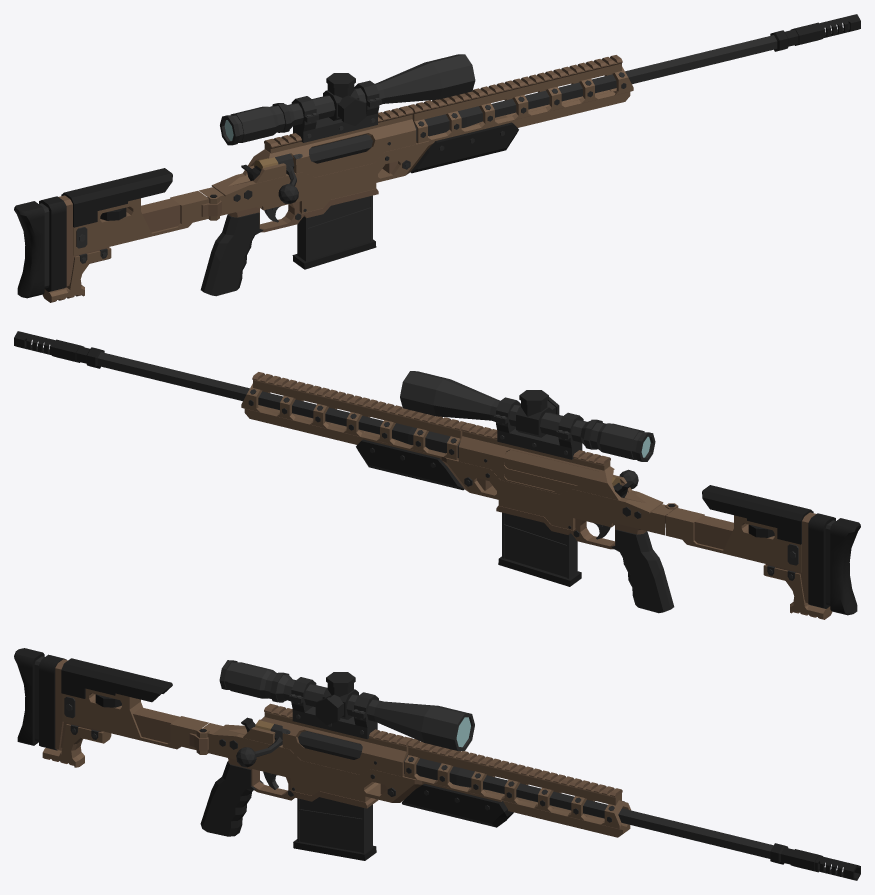
Rendered from ballista.glb.
3 renders of one model, top to bottom at view 1: azimuth 30°, elevation 25°; view 2: azimuth 150°, elevation 25°; view 3: azimuth 330°, elevation 25°, orthographic.
Parts seen in each view (by area): view 1: body_mesh, mag_mesh, boltrotate_mesh; view 2: body_mesh, mag_mesh; view 3: body_mesh, mag_mesh, boltrotate_mesh.
Part boxes in pixels (x1=…): body_mesh: x1=14, y1=14, x2=860, y2=302; mag_mesh: x1=292, y1=195, x2=376, y2=269; boltrotate_mesh: x1=254, y1=134, x2=372, y2=203; body_mesh: x1=14, y1=331, x2=860, y2=619; mag_mesh: x1=498, y1=512, x2=581, y2=586; body_mesh: x1=14, y1=648, x2=860, y2=880; mag_mesh: x1=293, y1=797, x2=376, y2=860; boltrotate_mesh: x1=236, y1=719, x2=362, y2=767.
Bounding box in the file's own units: 1.3 × 0.2708 × 0.0975.
